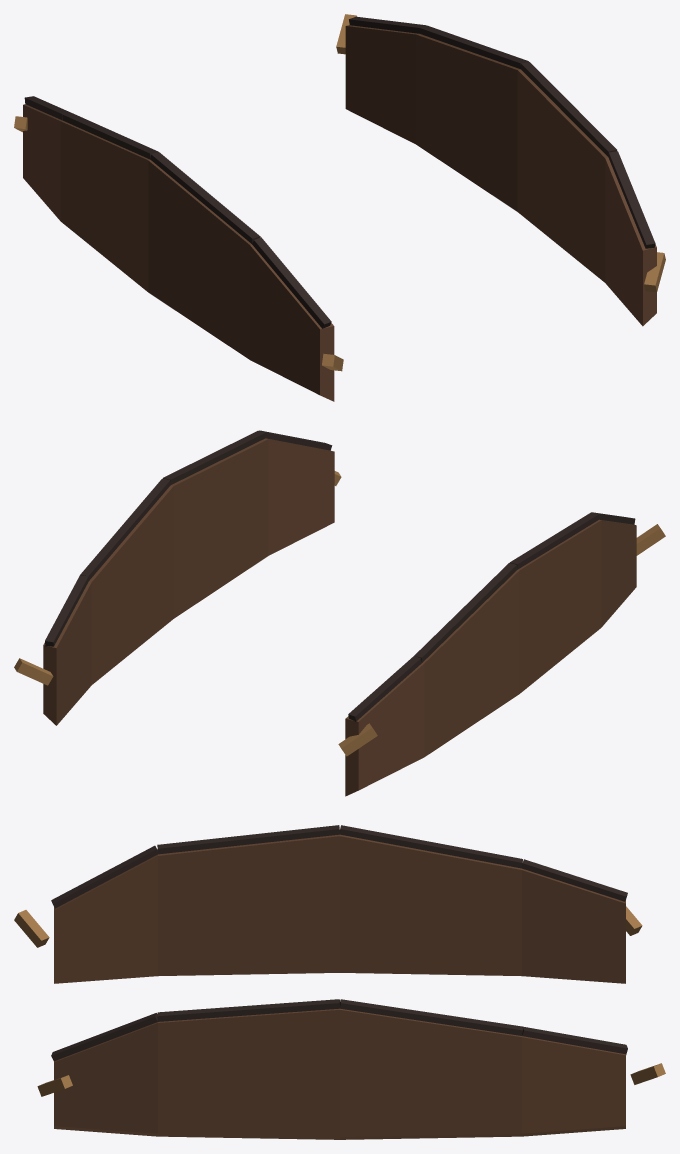
File: PirateCove_WreckHull_Simple.glb
The picture shows the model from 3 angles, top to bottom: view 1: azimuth 30°, elevation 25°; view 2: azimuth 150°, elevation 25°; view 3: azimuth 270°, elevation 25°; orthographic projection. The views are drawn at different scales.
Visible parts, largest first — view 1: PirateCove_WreckHull_Simple; view 2: PirateCove_WreckHull_Simple; view 3: PirateCove_WreckHull_Simple.
Part boxes in pixels (x1,y1,x2,y2): PirateCove_WreckHull_Simple: (14,14,665,401); PirateCove_WreckHull_Simple: (14,430,665,796); PirateCove_WreckHull_Simple: (14,825,665,1139).
Size of the model in its own units: 8.2 by 3.02 by 12.54.
